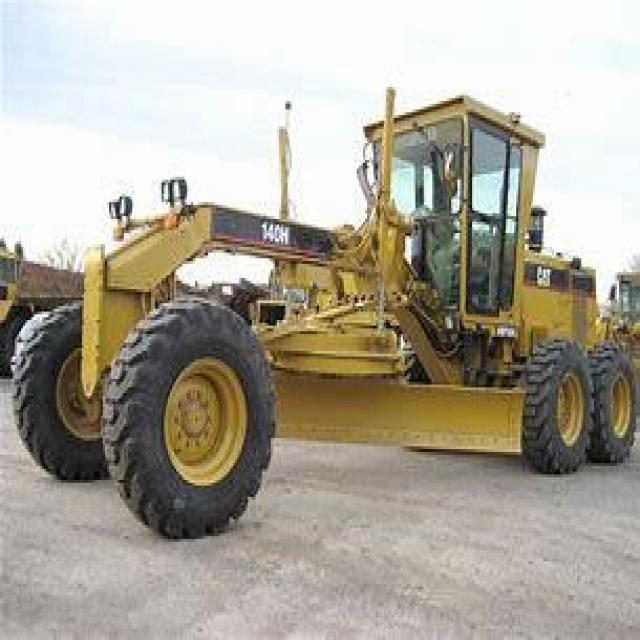buldozerpayloadergrader: (21, 51, 638, 536)
